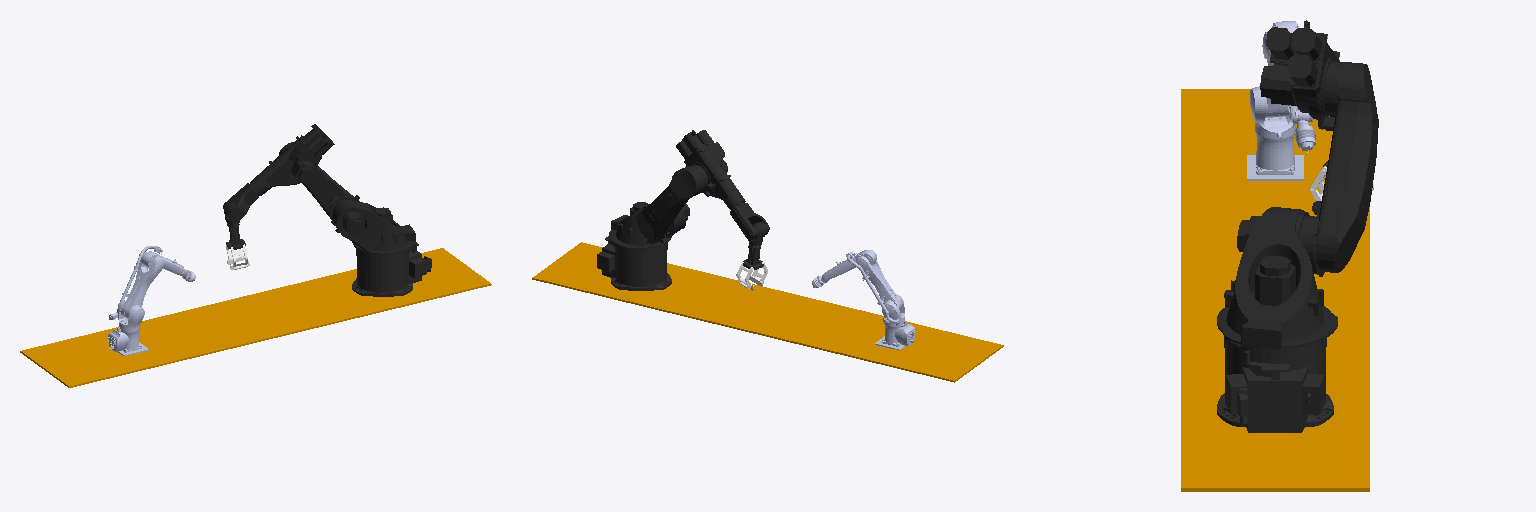
--- Facts derived from the render (not from the file) ---
The picture shows the robot from 3 angles, left to right: view 1: azimuth 30°, elevation 25°; view 2: azimuth 150°, elevation 25°; view 3: azimuth 270°, elevation 25°; orthographic projection.
Model kr160 with 18 links and 17 joints (12 revolute, 2 continuous, 3 fixed), rooted at dummy, posed every joint at zero.
Visible links, largest first — view 1: dummy, kr60_link1, kr60_base_link, kr60_link3, kr10_link2, kr60_link2, kr60_link4, kr10_base_link, kr10_link1; view 2: dummy, kr60_base_link, kr60_link2, kr60_link3, kr60_link1, kr10_link2, kr60_link4, kr10_base_link; view 3: dummy, kr60_link1, kr60_link2, kr60_base_link, kr60_link3, kr10_base_link, kr10_link1.
Link boxes in pixels (x1,y1,x2,y2): dummy: [20, 248, 491, 387]; kr60_link1: [332, 200, 415, 254]; kr60_base_link: [352, 242, 431, 296]; kr60_link3: [256, 124, 334, 190]; kr10_link2: [119, 246, 164, 318]; kr60_link2: [278, 142, 359, 225]; kr60_link4: [223, 177, 266, 221]; kr10_base_link: [108, 326, 148, 355]; kr10_link1: [109, 300, 144, 332]; dummy: [532, 242, 1003, 382]; kr60_base_link: [597, 236, 671, 290]; kr60_link2: [636, 166, 703, 240]; kr60_link3: [676, 130, 740, 203]; kr60_link1: [609, 202, 689, 248]; kr10_link2: [846, 252, 901, 313]; kr60_link4: [726, 194, 769, 240]; kr10_base_link: [875, 321, 915, 350]; dummy: [1181, 89, 1369, 491]; kr60_link1: [1217, 207, 1337, 348]; kr60_link2: [1311, 62, 1378, 276]; kr60_base_link: [1217, 337, 1333, 432]; kr60_link3: [1260, 20, 1343, 129]; kr10_base_link: [1247, 132, 1303, 180]; kr10_link1: [1250, 86, 1295, 138].
Bounding box of the posed robot: 5 × 1.05 × 1.96 m (x, y, z).
16 mesh visuals loaded from 16 distinct referenced files (16 binary STL).

The robot description file, URDF, robot "kr160":
<?xml version="1.0" encoding="utf-8" ?>
<!-- =================================================================================== -->
<!-- |    This document was autogenerated by xacro from [local-path]/kuka_ws/src/kuka_ros/kr160/urdf/kr160.xacro | -->
<!-- |    EDITING THIS FILE BY HAND IS NOT RECOMMENDED                                 | -->
<!-- =================================================================================== -->
<robot name="kr160">
    <!-- Defining the colors used in this robot -->
    <material name="Black">
        <color rgba="0 0 0 1" />
    </material>
    <material name="White">
        <color rgba="1 1 1 1" />
    </material>
    <material name="Blue">
        <color rgba="0 0 1 1" />
    </material>
    <material name="Red">
        <color rgba="1 0 0 1" />
    </material>
    <!-- ///////////////////////////////////////   dummy link   ////////////////////////////////////////// -->
    <link name="dummy">
        <visual>
            <origin rpy="0 0 0" xyz=" 0 0 -0.02" />
            <geometry>
                <box size="5 1 0.02" />
            </geometry>
            <material name="Brown" />
        </visual>
        <collision>
            <origin rpy="0 0 0" xyz=" 0 0 -0.02" />
            <geometry>
                <box size="5 1 0.02" />
            </geometry>
        </collision>
        
<inertial>
            <mass value="500" />
            <inertia ixx="1.0" ixy="0.0" ixz="0.0" iyy="0.5" iyz="0.0" izz="1.0" />
        </inertial>

    </link>
    <link name="kr10_base_link">
        
<inertial>
            <origin rpy="0 0 0" xyz="-0.0389079126292309 -4.2959014174726E-05 0.095499912626456" />
            <mass value="12.0127122518777" />
            <inertia ixx="0.096372089081788" ixy="-0.000105055998553245" ixz="0.0056899080162169" iyy="0.13962559834333" iyz="-8.4214207924127E-06" izz="0.121027155275122" />
        </inertial>

        <visual>
            <origin rpy="0 0 0" xyz="0 0 0" />
            <geometry>
                <mesh filename="package://kr10/meshes/base_link.STL" />
            </geometry>
            <material name="">
                <color rgba="0.792156862745098 0.819607843137255 0.933333333333333 1" />
            </material>
        </visual>
        <collision>
            <origin rpy="0 0 0" xyz="0 0 0" />
            <geometry>
                <mesh filename="package://kr10/meshes/base_link.STL" />
            </geometry>
        </collision>
    </link>
    <link name="kr10_link1">
        
<inertial>
            <origin rpy="0 0 0" xyz="0.00741380480149578 0.00354552947139167 0.115715412511507" />
            <mass value="6.2751497959128" />
            <inertia ixx="0.0751893674671946" ixy="0.00504886489144856" ixz="-0.00509592816750828" iyy="0.0510924965053144" iyz="-0.001549309062334" izz="0.0562677349522946" />
        </inertial>

        <visual>
            <origin rpy="0 0 0" xyz="0 0 0" />
            <geometry>
                <mesh filename="package://kr10/meshes/link1.STL" />
            </geometry>
            <material name="">
                <color rgba="0.792156862745098 0.819607843137255 0.933333333333333 1" />
            </material>
        </visual>
        <collision>
            <origin rpy="0 0 0" xyz="0 0 0" />
            <geometry>
                <mesh filename="package://kr10/meshes/link1.STL" />
            </geometry>
        </collision>
    </link>
    <joint name="kr10_joint1" type="revolute">
        <origin rpy="0 0 0" xyz="0 0 0.217" />
        <parent link="kr10_base_link" />
        <child link="kr10_link1" />
        <axis xyz="0 0 1" />
        <limit effort="300" lower="-3" upper="3" velocity="1" />
        <dynamics damping="10.0" friction="0.0"/>
    </joint>
    <link name="kr10_link2">
        
<inertial>
            <origin rpy="0 0 0" xyz="0.112673325433516 -0.235533330268791 5.25939883689319E-05" />
            <mass value="10.0623910575082" />
            <inertia ixx="0.373446746946084" ixy="0.169218239470221" ixz="-0.000352160811815804" iyy="0.131793291732547" iyz="0.000952442844566425" izz="0.442938494752101" />
        </inertial>

        <visual>
            <origin rpy="0 0 0" xyz="0 0 0" />
            <geometry>
                <mesh filename="package://kr10/meshes/link2.STL" />
            </geometry>
            <material name="">
                <color rgba="0.792156862745098 0.819607843137255 0.933333333333333 1" />
            </material>
        </visual>
        <collision>
            <origin rpy="0 0 0" xyz="0 0 0" />
            <geometry>
                <mesh filename="package://kr10/meshes/link2.STL" />
            </geometry>
        </collision>
    </link>
    <joint name="kr10_joint2" type="revolute">
        <origin rpy="-1.5708 0 0.19801" xyz="0.025397 0.00050592 0.183" />
        <parent link="kr10_link1" />
        <child link="kr10_link2" />
        <axis xyz="0 0 -1" />
        <limit effort="300" lower="-1.4" upper="2.1" velocity="1" />
        <dynamics damping="10" friction="0.0"/>
    </joint>
    <link name="kr10_link3">
        
<inertial>
            <origin rpy="0 0 0" xyz="0.000529908025397541 0.0191760796551027 -2.4642212648307E-05" />
            <mass value="2.87413726622842" />
            <inertia ixx="0.0106153706452702" ixy="-0.000284572592443065" ixz="-3.571396350265E-06" iyy="0.00740315810462365" iyz="1.82140206105029E-06" izz="0.0111376816178918" />
        </inertial>

        <visual>
            <origin rpy="0 0 0" xyz="0 0 0" />
            <geometry>
                <mesh filename="package://kr10/meshes/link3.STL" />
            </geometry>
            <material name="">
                <color rgba="0.792156862745098 0.819607843137255 0.933333333333333 1" />
            </material>
        </visual>
        <collision>
            <origin rpy="0 0 0" xyz="0 0 0" />
            <geometry>
                <mesh filename="package://kr10/meshes/link3.STL" />
            </geometry>
        </collision>
    </link>
    <joint name="kr10_joint3" type="revolute">
        <origin rpy="-3.1416 0 1.5708" xyz="0.25768 -0.49719 0.0035" />
        <parent link="kr10_link2" />
        <child link="kr10_link3" />
        <axis xyz="0 0 -1" />
        <limit effort="300" lower="-4" upper="1" velocity="1" />
        <dynamics damping="10" friction="0.0"/>
    </joint>
    <link name="kr10_link4">
        
<inertial>
            <origin rpy="0 0 0" xyz="0.000495827295870943 0.000331263303056328 0.185104333291848" />
            <mass value="4.03623874477417" />
            <inertia ixx="0.0514724229213813" ixy="-0.000345898984168441" ixz="-7.55534798658624E-05" iyy="0.0508207618372116" iyz="-0.000225438428481011" izz="0.00734338590437416" />
        </inertial>

        <visual>
            <origin rpy="0 0 0" xyz="0 0 0" />
            <geometry>
                <mesh filename="package://kr10/meshes/link4.STL" />
            </geometry>
            <material name="">
                <color rgba="0.792156862745098 0.819607843137255 0.933333333333333 1" />
            </material>
        </visual>
        <collision>
            <origin rpy="0 0 0" xyz="0 0 0" />
            <geometry>
                <mesh filename="package://kr10/meshes/link4.STL" />
            </geometry>
        </collision>
    </link>
    <joint name="kr10_joint4" type="continuous">
        <origin rpy="1.5708 -0.33893 2.5361" xyz="0.037811 0.11612 0" />
        <parent link="kr10_link3" />
        <child link="kr10_link4" />
        <axis xyz="0 0 -1" />
        <dynamics damping="5" friction="0.0"/>
    </joint>
    <link name="kr10_link5">
        
<inertial>
            <origin rpy="0 0 0" xyz="0.0120557743377237 0.0101959936253579 0.0021636985615841" />
            <mass value="0.4420683299725" />
            <inertia ixx="0.000419965604922443" ixy="-0.000120215358737915" ixz="1.29271922535509E-05" iyy="0.00046073941946462" iyz="1.04681508421518E-05" izz="0.000528480867675673" />
        </inertial>

        <visual>
            <origin rpy="0 0 0" xyz="0 0 0" />
            <geometry>
                <mesh filename="package://kr10/meshes/link5.STL" />
            </geometry>
            <material name="">
                <color rgba="0.792156862745098 0.819607843137255 0.933333333333333 1" />
            </material>
        </visual>
        <collision>
            <origin rpy="0 0 0" xyz="0 0 0" />
            <geometry>
                <mesh filename="package://kr10/meshes/link5.STL" />
            </geometry>
        </collision>
    </link>
    <joint name="kr10_joint5" type="revolute">
        <origin rpy="1.5708 -0.97526 -0.39435" xyz="9.6051E-05 0.00023081 0.398" />
        <parent link="kr10_link4" />
        <child link="kr10_link5" />
        <axis xyz="0 0 -1" />
        <limit effort="300" lower="-1.8" upper="2.1" velocity="1" />
        <dynamics damping="1" friction="0.0"/>
    </joint>
    <link name="kr10_link6">
        
<inertial>
            <origin rpy="0 0 0" xyz="-2.27839703337285E-06 -1.67395761618838E-06 0.0553153630699634" />
            <mass value="0.213549096503453" />
            <inertia ixx="0.000219860024372743" ixy="-4.50770251278094E-09" ixz="-2.33140665193661E-08" iyy="0.000219862847887346" iyz="-1.71290426984171E-08" izz="7.43113458858691E-05" />
        </inertial>

        <visual>
            <origin rpy="0 0 0" xyz="0 0 0" />
            <geometry>
                <mesh filename="package://kr10/meshes/link6.STL" />
            </geometry>
            <material name="">
                <color rgba="0.792156862745098 0.819607843137255 0.933333333333333 1" />
            </material>
        </visual>
        <collision>
            <origin rpy="0 0 0" xyz="0 0 0" />
            <geometry>
                <mesh filename="package://kr10/meshes/link6.STL" />
            </geometry>
        </collision>
    </link>
    <joint name="kr10_joint6" type="continuous">
        <origin rpy="-1.5708 0.34761 -0.87071" xyz="0.050858 0.042845 0.00025" />
        <parent link="kr10_link5" />
        <child link="kr10_link6" />
        <axis xyz="0 0 1" />
        <dynamics damping="1" friction="0.0"/>
    </joint>
    <joint name="dummy_joint_kr10" type="fixed">
        <origin rpy="0 0 0" xyz="-1.5 0 0" />
        <parent link="dummy" />
        <child link="kr10_base_link" />
    </joint>
    <link name="kr60_base_link">
        
<inertial>
            <origin rpy="0 0 0" xyz="-0.0435912921701559 0.000713255348429254 0.235869111604986" />
            <mass value="131.03709830541" />
            <inertia ixx="4.89785584702139" ixy="0.0374706691148856" ixz="-0.212225957715894" iyy="6.14888362749998" iyz="-0.000661186598210806" izz="6.05287659150192" />
        </inertial>

        <visual>
            <origin rpy="0 0 0" xyz="0 0 0" />
            <geometry>
                <mesh filename="package://kr60/meshes/base_link.STL" />
            </geometry>
            <material name="">
                <color rgba="0.223529411764706 0.223529411764706 0.223529411764706 1" />
            </material>
        </visual>
        <collision>
            <origin rpy="0 0 0" xyz="0 0 0" />
            <geometry>
                <mesh filename="package://kr60/meshes/base_link.STL" />
            </geometry>
        </collision>
    </link>
    <link name="kr60_link1">
        
<inertial>
            <origin rpy="0 0 0" xyz="0.140797971765356 -0.0164096960535733 0.187359043807774" />
            <mass value="82.8920172367664" />
            <inertia ixx="2.45467046863107" ixy="0.256865903550409" ixz="-1.16906897181984" iyy="4.32241124955131" iyz="0.176354317999072" izz="4.14782926078883" />
        </inertial>

        <visual>
            <origin rpy="0 0 0" xyz="0 0 0" />
            <geometry>
                <mesh filename="package://kr60/meshes/link1.STL" />
            </geometry>
            <material name="">
                <color rgba="0.2 0.2 0.2 1" />
            </material>
        </visual>
        <collision>
            <origin rpy="0 0 0" xyz="0 0 0" />
            <geometry>
                <mesh filename="package://kr60/meshes/link1.STL" />
            </geometry>
        </collision>
    </link>
    <joint name="kr60_joint1" type="revolute">
        <origin rpy="0 0 0" xyz="0.00035187 -4.2629E-05 0.49797" />
        <parent link="kr60_base_link" />
        <child link="kr60_link1" />
        <axis xyz="0 0 -1" />
        <limit effort="300" lower="-3.14" upper="3.14" velocity="1" />
        <dynamics damping="50.0" friction="0.0"/>
    </joint>
    <link name="kr60_link2">
        
<inertial>
            <origin rpy="0 0 0" xyz="0.251956440024243 0.31201537254992 0.101340677761361" />
            <mass value="54.5098631728848" />
            <inertia ixx="3.37106903827733" ixy="-2.31897616562626" ixz="-0.0123248243600918" iyy="2.37820274493385" iyz="-0.0168099695812892" izz="5.37880440302274" />
        </inertial>

        <visual>
            <origin rpy="0 0 0" xyz="0 0 0" />
            <geometry>
                <mesh filename="package://kr60/meshes/link2.STL" />
            </geometry>
            <material name="">
                <color rgba="0.2 0.2 0.2 1" />
            </material>
        </visual>
        <collision>
            <origin rpy="0 0 0" xyz="0 0 0" />
            <geometry>
                <mesh filename="package://kr60/meshes/link2.STL" />
            </geometry>
        </collision>
    </link>
    <joint name="kr60_joint2" type="revolute">
        <origin rpy="1.5708 0 -0.22752" xyz="0.30771 -0.22264 0.31103" />
        <parent link="kr60_link1" />
        <child link="kr60_link2" />
        <axis xyz="0 0 -1" />
        <limit effort="300" lower="-1.2" upper="1.4" velocity="1" />
        <dynamics damping="20.0" friction="0.0"/>
    </joint>
    <link name="kr60_link3">
        
<inertial>
            <origin rpy="0 0 0" xyz="0.0264574349222555 0.0622817405350231 -0.184769381740328" />
            <mass value="52.8139839675299" />
            <inertia ixx="1.44583618573615" ixy="0.675569358504738" ixz="-0.08105662717627" iyy="1.74771111138366" iyz="0.138955152142587" izz="2.35512831766369" />
        </inertial>

        <visual>
            <origin rpy="0 0 0" xyz="0 0 0" />
            <geometry>
                <mesh filename="package://kr60/meshes/link3.STL" />
            </geometry>
            <material name="">
                <color rgba="0.2 0.2 0.2 1" />
            </material>
        </visual>
        <collision>
            <origin rpy="0 0 0" xyz="0 0 0" />
            <geometry>
                <mesh filename="package://kr60/meshes/link3.STL" />
            </geometry>
        </collision>
    </link>
    <joint name="kr60_joint3" type="revolute">
        <origin rpy="0 0 0" xyz="0.53484 0.66064 0.017" />
        <parent link="kr60_link2" />
        <child link="kr60_link3" />
        <axis xyz="0 0 -1" />
        <limit effort="300" lower="-4" upper="1.1" velocity="1" />
        <dynamics damping="10.0" friction="0.0"/>
    </joint>
    <link name="kr60_link4">
        
<inertial>
            <origin rpy="0 0 0" xyz="-0.00407295592284429 0.0114233456063895 0.191771095925468" />
            <mass value="9.33484403440081" />
            <inertia ixx="0.173337740682456" ixy="0.00766249996810709" ixz="0.00211297471780549" iyy="0.155598279375636" iyz="-0.00570657719860746" izz="0.0550237588439791" />
        </inertial>

        <visual>
            <origin rpy="0 0 0" xyz="0 0 0" />
            <geometry>
                <mesh filename="package://kr60/meshes/link4.STL" />
            </geometry>
            <material name="">
                <color rgba="0.2 0.2 0.2 1" />
            </material>
        </visual>
        <collision>
            <origin rpy="0 0 0" xyz="0 0 0" />
            <geometry>
                <mesh filename="package://kr60/meshes/link4.STL" />
            </geometry>
        </collision>
    </link>
    <joint name="kr60_joint4" type="revolute">
        <origin rpy="1.5708 0.35122 0.88684" xyz="0.40937 -0.14672 -0.16457" />
        <parent link="kr60_link3" />
        <child link="kr60_link4" />
        <axis xyz="0 0 -1" />
        <limit effort="300" lower="-3.14" upper="3.14" velocity="1" />
        <dynamics damping="10.0" friction="0.0"/>
    </joint>
    <link name="kr60_link5">
        
<inertial>
            <origin rpy="0 0 0" xyz="-0.00305829815751446 -0.0262624932024078 -0.0855135194075107" />
            <mass value="3.88136296388639" />
            <inertia ixx="0.018435030823998" ixy="-0.000643999611295686" ixz="0.000225940311804447" iyy="0.0129804584036509" iyz="0.00194018831589403" izz="0.0166999744136098" />
        </inertial>

        <visual>
            <origin rpy="0 0 0" xyz="0 0 0" />
            <geometry>
                <mesh filename="package://kr60/meshes/link5.STL" />
            </geometry>
            <material name="">
                <color rgba="0.2 0.2 0.2 1" />
            </material>
        </visual>
        <collision>
            <origin rpy="0 0 0" xyz="0 0 0" />
            <geometry>
                <mesh filename="package://kr60/meshes/link5.STL" />
            </geometry>
        </collision>
    </link>
    <joint name="kr60_joint5" type="revolute">
        <origin rpy="-1.5708 -0.88729 0.35371" xyz="-0.023643 0.06437 0.41596" />
        <parent link="kr60_link4" />
        <child link="kr60_link5" />
        <axis xyz="0 0 -1" />
        <limit effort="300" lower="-3.2" upper="1.52" velocity="1" />
        <dynamics damping="5.0" friction="0.0"/>
    </joint>
    <link name="kr60_link6">
        
<inertial>
            <origin rpy="0 0 0" xyz="-0.000266811986394 0.0022051066231592 0.159155225523868" />
            <mass value="2.49283147388058" />
            <inertia ixx="0.0228945331943247" ixy="6.35070513466885E-05" ixz="-3.49749616928972E-05" iyy="0.0225138449320645" iyz="0.000268449006240413" izz="0.0064716945834193" />
        </inertial>

        <visual>
            <origin rpy="0 0 0" xyz="0 0 0" />
            <geometry>
                <mesh filename="package://kr60/meshes/link6.STL" />
            </geometry>
            <material name="">
                <color rgba="0.223529411764706 0.223529411764706 0.223529411764706 1" />
            </material>
        </visual>
        <collision>
            <origin rpy="0 0 0" xyz="0 0 0" />
            <geometry>
                <mesh filename="package://kr60/meshes/link6.STL" />
            </geometry>
        </collision>
    </link>
    <joint name="kr60_joint6" type="revolute">
        <origin rpy="1.5708 0.23058 -0.11592" xyz="-0.014573 -0.12469 -0.068374" />
        <parent link="kr60_link5" />
        <child link="kr60_link6" />
        <axis xyz="0 0 -1" />
        <limit effort="300" lower="-3.14" upper="3.14" velocity="1" />
        <dynamics damping="1.0" friction="0.0"/>
    </joint>
    <!-- //////////////////////////////////////   finger   ////////////////////////////////////////////// -->
    <link name="kr60_finger_link1">
        
<inertial>
            <origin rpy="0 0 0" xyz="-0.0749733532255245 0.130628735923085 -0.074999999999946" />
            <mass value="0.893519309367383" />
            <inertia ixx="0.0073937480635528" ixy="0.00124957233576088" ixz="3.13158244995282E-16" iyy="0.00326091528208565" iyz="-4.25684877972121E-16" izz="0.00565771627211372" />
        </inertial>

        <visual>
            <origin rpy="0 0 0" xyz="0 0 0" />
            <geometry>
                <mesh filename="package://kr60/meshes/finger_link1.STL" />
            </geometry>
            <material name="">
                <color rgba="1 1 1 1" />
            </material>
        </visual>
        <collision>
            <origin rpy="0 0 0" xyz="0 0 0" />
            <geometry>
                <mesh filename="package://kr60/meshes/finger_link1.STL" />
            </geometry>
        </collision>
    </link>
    <joint name="kr60_finger_joint1" type="revolute">
        <origin rpy="1.5708 0.39611 -1.2963" xyz="-0.093833 0.056587 0.2565" />
        <parent link="kr60_link6" />
        <child link="kr60_finger_link1" />
        <axis xyz="0 0 -1" />
        <limit effort="300" lower="-1" upper="0.2" velocity="1" />
        <dynamics damping="1.0" friction="0.0"/>
    </joint>
    <link name="kr60_finger_link2">
        
<inertial>
            <origin rpy="0 0 0" xyz="-0.0434409829659067 0.144196411218408 -0.0750000000000308" />
            <mass value="0.893519309367395" />
            <inertia ixx="0.00645658292905761" ixy="0.00213264017844388" ixz="-9.93129189996722E-17" iyy="0.00419586853440302" iyz="5.19170210294684E-16" izz="0.00565550438993584" />
        </inertial>

        <visual>
            <origin rpy="0 0 0" xyz="0 0 0" />
            <geometry>
                <mesh filename="package://kr60/meshes/finger_link2.STL" />
            </geometry>
            <material name="">
                <color rgba="1 1 1 1" />
            </material>
        </visual>
        <collision>
            <origin rpy="0 0 0" xyz="0 0 0" />
            <geometry>
                <mesh filename="package://kr60/meshes/finger_link2.STL" />
            </geometry>
        </collision>
    </link>
    <joint name="kr60_finger_joint2" type="revolute">
        <origin rpy="1.5708 0.39611 -1.2963" xyz="-0.050462 -0.097423 0.2565" />
        <parent link="kr60_link6" />
        <child link="kr60_finger_link2" />
        <axis xyz="0 0 1" />
        <limit effort="300" lower="-1" upper="0.2" velocity="1" />
        <dynamics damping="1.0" friction="0.0"/>
    </joint>
    <!-- Grasping frame -->
    <link name="kr60_finger_frame" />
    <joint name="kr60_finger_frame_joint" type="fixed">
        <parent link="kr60_link6" />
        <child link="kr60_finger_frame" />
        <origin rpy="0 0 0" xyz="0.08 0 0" />
    </joint>
    <joint name="dummy_joint_kr60" type="fixed">
        <origin rpy="0 0 3.14" xyz="1.5 0 0" />
        <parent link="dummy" />
        <child link="kr60_base_link" />
    </joint>
    
<transmission name="tran1">
        <type>transmission_interface/SimpleTransmission</type>
        <joint name="kr10_joint1">
            <hardwareInterface>hardware_interface/PositionJointInterface</hardwareInterface>
        </joint>
        <actuator name="motor1">
            <hardwareInterface>hardware_interface/PositionJointInterface</hardwareInterface>
            <mechanicalReduction>1</mechanicalReduction>
        </actuator>
    </transmission>
    <transmission name="tran1">
        <type>transmission_interface/SimpleTransmission</type>
        <joint name="kr10_joint2">
            <hardwareInterface>hardware_interface/PositionJointInterface</hardwareInterface>
        </joint>
        <actuator name="motor1">
            <hardwareInterface>hardware_interface/PositionJointInterface</hardwareInterface>
            <mechanicalReduction>1</mechanicalReduction>
        </actuator>
    </transmission>
    <transmission name="tran1">
        <type>transmission_interface/SimpleTransmission</type>
        <joint name="kr10_joint3">
            <hardwareInterface>hardware_interface/PositionJointInterface</hardwareInterface>
        </joint>
        <actuator name="motor1">
            <hardwareInterface>hardware_interface/PositionJointInterface</hardwareInterface>
            <mechanicalReduction>1</mechanicalReduction>
        </actuator>
    </transmission>
    <transmission name="tran1">
        <type>transmission_interface/SimpleTransmission</type>
        <joint name="kr10_joint4">
            <hardwareInterface>hardware_interface/PositionJointInterface</hardwareInterface>
        </joint>
        <actuator name="motor1">
            <hardwareInterface>hardware_interface/PositionJointInterface</hardwareInterface>
            <mechanicalReduction>1</mechanicalReduction>
        </actuator>
    </transmission>
    <transmission name="tran1">
        <type>transmission_interface/SimpleTransmission</type>
        <joint name="kr10_joint5">
            <hardwareInterface>hardware_interface/PositionJointInterface</hardwareInterface>
        </joint>
        <actuator name="motor1">
            <hardwareInterface>hardware_interface/PositionJointInterface</hardwareInterface>
            <mechanicalReduction>1</mechanicalReduction>
        </actuator>
    </transmission>
    <transmission name="tran1">
        <type>transmission_interface/SimpleTransmission</type>
        <joint name="kr10_joint6">
            <hardwareInterface>hardware_interface/PositionJointInterface</hardwareInterface>
        </joint>
        <actuator name="motor1">
            <hardwareInterface>hardware_interface/PositionJointInterface</hardwareInterface>
            <mechanicalReduction>1</mechanicalReduction>
        </actuator>
    </transmission>
    <transmission name="tran1">
        <type>transmission_interface/SimpleTransmission</type>
        <joint name="kr60_joint1">
            <hardwareInterface>hardware_interface/PositionJointInterface</hardwareInterface>
        </joint>
        <actuator name="motor1">
            <hardwareInterface>hardware_interface/PositionJointInterface</hardwareInterface>
            <mechanicalReduction>1</mechanicalReduction>
        </actuator>
    </transmission>
    <transmission name="tran1">
        <type>transmission_interface/SimpleTransmission</type>
        <joint name="kr60_joint2">
            <hardwareInterface>hardware_interface/PositionJointInterface</hardwareInterface>
        </joint>
        <actuator name="motor1">
            <hardwareInterface>hardware_interface/PositionJointInterface</hardwareInterface>
            <mechanicalReduction>1</mechanicalReduction>
        </actuator>
    </transmission>
    <transmission name="tran1">
        <type>transmission_interface/SimpleTransmission</type>
        <joint name="kr60_joint3">
            <hardwareInterface>hardware_interface/PositionJointInterface</hardwareInterface>
        </joint>
        <actuator name="motor1">
            <hardwareInterface>hardware_interface/PositionJointInterface</hardwareInterface>
            <mechanicalReduction>1</mechanicalReduction>
        </actuator>
    </transmission>
    <transmission name="tran1">
        <type>transmission_interface/SimpleTransmission</type>
        <joint name="kr60_joint4">
            <hardwareInterface>hardware_interface/PositionJointInterface</hardwareInterface>
        </joint>
        <actuator name="motor1">
            <hardwareInterface>hardware_interface/PositionJointInterface</hardwareInterface>
            <mechanicalReduction>1</mechanicalReduction>
        </actuator>
    </transmission>
    <transmission name="tran1">
        <type>transmission_interface/SimpleTransmission</type>
        <joint name="kr60_joint5">
            <hardwareInterface>hardware_interface/PositionJointInterface</hardwareInterface>
        </joint>
        <actuator name="motor1">
            <hardwareInterface>hardware_interface/PositionJointInterface</hardwareInterface>
            <mechanicalReduction>1</mechanicalReduction>
        </actuator>
    </transmission>
    <transmission name="tran1">
        <type>transmission_interface/SimpleTransmission</type>
        <joint name="kr60_joint6">
            <hardwareInterface>hardware_interface/PositionJointInterface</hardwareInterface>
        </joint>
        <actuator name="motor1">
            <hardwareInterface>hardware_interface/PositionJointInterface</hardwareInterface>
            <mechanicalReduction>1</mechanicalReduction>
        </actuator>
    </transmission>
    <transmission name="tran1">
        <type>transmission_interface/SimpleTransmission</type>
        <joint name="kr60_finger_joint1">
            <hardwareInterface>hardware_interface/PositionJointInterface</hardwareInterface>
        </joint>
        <actuator name="motor1">
            <hardwareInterface>hardware_interface/PositionJointInterface</hardwareInterface>
            <mechanicalReduction>1</mechanicalReduction>
        </actuator>
    </transmission>
    <transmission name="tran1">
        <type>transmission_interface/SimpleTransmission</type>
        <joint name="kr60_finger_joint2">
            <hardwareInterface>hardware_interface/PositionJointInterface</hardwareInterface>
        </joint>
        <actuator name="motor1">
            <hardwareInterface>hardware_interface/PositionJointInterface</hardwareInterface>
            <mechanicalReduction>1</mechanicalReduction>
        </actuator>
    </transmission>
    <!-- ros_control plugin -->
    <gazebo>
        <plugin filename="libgazebo_ros_control.so" name="gazebo_ros_control">
            <robotNamespace>/kr160</robotNamespace>
            <robotSimType>gazebo_ros_control/DefaultRobotHWSim</robotSimType>
            <legacyModeNS>true</legacyModeNS>
        </plugin>
    </gazebo>
    <!-- default joint position -->
    <!-- kr10: -0.17 0.28 -0.55 0.00 -1.35 -0.01 -->
    <!-- kr60: -0.21 0.38 0.01 0.09 -2.35 0.00 0.00 0.00 -->
    <!-- cylinders -->
    <!-- cylinder0: 0.1 0.05-->
    <!-- cylinder1: 0.15 0.3 -->
    <transmission name="trans_kr10_joint1">
        <type>transmission_interface/SimpleTransmission</type>
        <joint name="kr10_joint1">
            <hardwareInterface>hardware_interface/PositionJointInterface</hardwareInterface>
        </joint>
        <actuator name="kr10_joint1_motor">
            <hardwareInterface>hardware_interface/PositionJointInterface</hardwareInterface>
            <mechanicalReduction>1</mechanicalReduction>
        </actuator>
    </transmission>
    <transmission name="trans_kr10_joint2">
        <type>transmission_interface/SimpleTransmission</type>
        <joint name="kr10_joint2">
            <hardwareInterface>hardware_interface/PositionJointInterface</hardwareInterface>
        </joint>
        <actuator name="kr10_joint2_motor">
            <hardwareInterface>hardware_interface/PositionJointInterface</hardwareInterface>
            <mechanicalReduction>1</mechanicalReduction>
        </actuator>
    </transmission>
    <transmission name="trans_kr10_joint3">
        <type>transmission_interface/SimpleTransmission</type>
        <joint name="kr10_joint3">
            <hardwareInterface>hardware_interface/PositionJointInterface</hardwareInterface>
        </joint>
        <actuator name="kr10_joint3_motor">
            <hardwareInterface>hardware_interface/PositionJointInterface</hardwareInterface>
            <mechanicalReduction>1</mechanicalReduction>
        </actuator>
    </transmission>
    <transmission name="trans_kr10_joint4">
        <type>transmission_interface/SimpleTransmission</type>
        <joint name="kr10_joint4">
            <hardwareInterface>hardware_interface/PositionJointInterface</hardwareInterface>
        </joint>
        <actuator name="kr10_joint4_motor">
            <hardwareInterface>hardware_interface/PositionJointInterface</hardwareInterface>
            <mechanicalReduction>1</mechanicalReduction>
        </actuator>
    </transmission>
    <transmission name="trans_kr10_joint5">
        <type>transmission_interface/SimpleTransmission</type>
        <joint name="kr10_joint5">
            <hardwareInterface>hardware_interface/PositionJointInterface</hardwareInterface>
        </joint>
        <actuator name="kr10_joint5_motor">
            <hardwareInterface>hardware_interface/PositionJointInterface</hardwareInterface>
            <mechanicalReduction>1</mechanicalReduction>
        </actuator>
    </transmission>
    <transmission name="trans_kr10_joint6">
        <type>transmission_interface/SimpleTransmission</type>
        <joint name="kr10_joint6">
            <hardwareInterface>hardware_interface/PositionJointInterface</hardwareInterface>
        </joint>
        <actuator name="kr10_joint6_motor">
            <hardwareInterface>hardware_interface/PositionJointInterface</hardwareInterface>
            <mechanicalReduction>1</mechanicalReduction>
        </actuator>
    </transmission>
    <transmission name="trans_kr60_joint1">
        <type>transmission_interface/SimpleTransmission</type>
        <joint name="kr60_joint1">
            <hardwareInterface>hardware_interface/PositionJointInterface</hardwareInterface>
        </joint>
        <actuator name="kr60_joint1_motor">
            <hardwareInterface>hardware_interface/PositionJointInterface</hardwareInterface>
            <mechanicalReduction>1</mechanicalReduction>
        </actuator>
    </transmission>
    <transmission name="trans_kr60_joint2">
        <type>transmission_interface/SimpleTransmission</type>
        <joint name="kr60_joint2">
            <hardwareInterface>hardware_interface/PositionJointInterface</hardwareInterface>
        </joint>
        <actuator name="kr60_joint2_motor">
            <hardwareInterface>hardware_interface/PositionJointInterface</hardwareInterface>
            <mechanicalReduction>1</mechanicalReduction>
        </actuator>
    </transmission>
    <transmission name="trans_kr60_joint3">
        <type>transmission_interface/SimpleTransmission</type>
        <joint name="kr60_joint3">
            <hardwareInterface>hardware_interface/PositionJointInterface</hardwareInterface>
        </joint>
        <actuator name="kr60_joint3_motor">
            <hardwareInterface>hardware_interface/PositionJointInterface</hardwareInterface>
            <mechanicalReduction>1</mechanicalReduction>
        </actuator>
    </transmission>
    <transmission name="trans_kr60_joint4">
        <type>transmission_interface/SimpleTransmission</type>
        <joint name="kr60_joint4">
            <hardwareInterface>hardware_interface/PositionJointInterface</hardwareInterface>
        </joint>
        <actuator name="kr60_joint4_motor">
            <hardwareInterface>hardware_interface/PositionJointInterface</hardwareInterface>
            <mechanicalReduction>1</mechanicalReduction>
        </actuator>
    </transmission>
    <transmission name="trans_kr60_joint5">
        <type>transmission_interface/SimpleTransmission</type>
        <joint name="kr60_joint5">
            <hardwareInterface>hardware_interface/PositionJointInterface</hardwareInterface>
        </joint>
        <actuator name="kr60_joint5_motor">
            <hardwareInterface>hardware_interface/PositionJointInterface</hardwareInterface>
            <mechanicalReduction>1</mechanicalReduction>
        </actuator>
    </transmission>
    <transmission name="trans_kr60_joint6">
        <type>transmission_interface/SimpleTransmission</type>
        <joint name="kr60_joint6">
            <hardwareInterface>hardware_interface/PositionJointInterface</hardwareInterface>
        </joint>
        <actuator name="kr60_joint6_motor">
            <hardwareInterface>hardware_interface/PositionJointInterface</hardwareInterface>
            <mechanicalReduction>1</mechanicalReduction>
        </actuator>
    </transmission>
    <transmission name="trans_kr60_finger_joint1">
        <type>transmission_interface/SimpleTransmission</type>
        <joint name="kr60_finger_joint1">
            <hardwareInterface>hardware_interface/PositionJointInterface</hardwareInterface>
        </joint>
        <actuator name="kr60_finger_joint1_motor">
            <hardwareInterface>hardware_interface/PositionJointInterface</hardwareInterface>
            <mechanicalReduction>1</mechanicalReduction>
        </actuator>
    </transmission>
    <transmission name="trans_kr60_finger_joint2">
        <type>transmission_interface/SimpleTransmission</type>
        <joint name="kr60_finger_joint2">
            <hardwareInterface>hardware_interface/PositionJointInterface</hardwareInterface>
        </joint>
        <actuator name="kr60_finger_joint2_motor">
            <hardwareInterface>hardware_interface/PositionJointInterface</hardwareInterface>
            <mechanicalReduction>1</mechanicalReduction>
        </actuator>
    </transmission>
    <!-- <gazebo>
        <plugin name="gazebo_ros_control" filename="libgazebo_ros_control.so">
            <robotNamespace>/kr160</robotNamespace>
        </plugin>
    </gazebo> -->
</robot>
